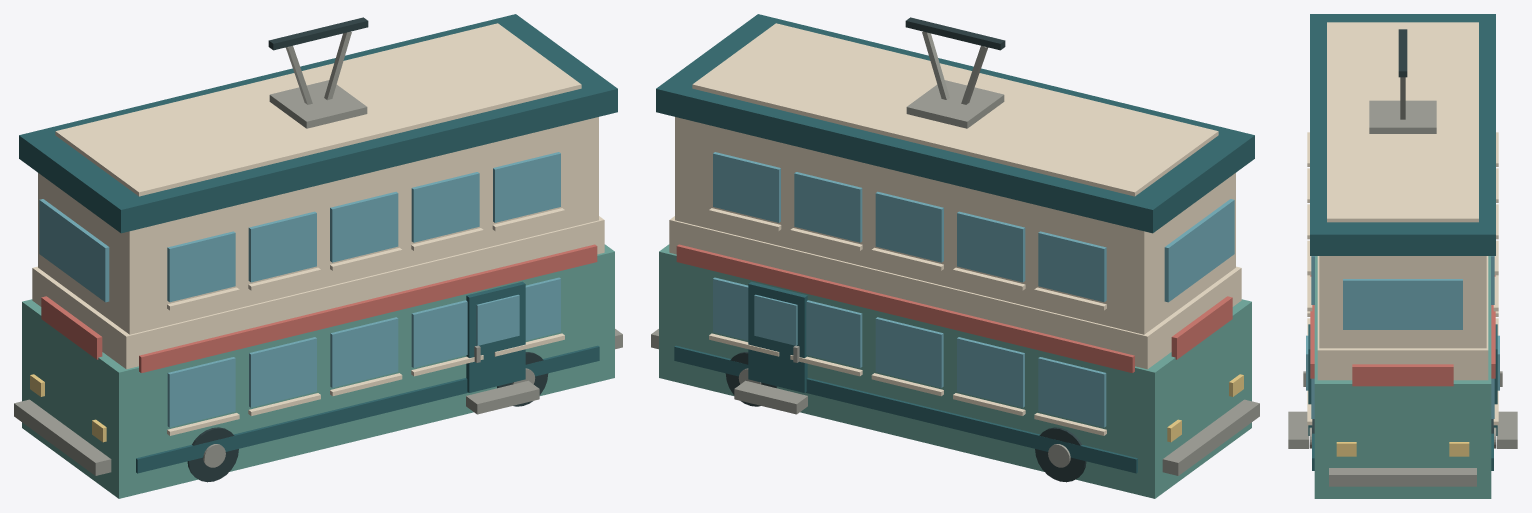
Rendered from hk_tram.glb.
The picture shows the model from 3 angles, left to right: view 1: azimuth 30°, elevation 25°; view 2: azimuth 150°, elevation 25°; view 3: azimuth 270°, elevation 25°; orthographic projection. The views are drawn at different scales.
Parts seen in each view (by area): view 1: rounded_lower_carriage, roof_highlight, upper_carriage, roof_canopy, cream_middle_deck, route_stripe_right, lower_bottom_band_back, front_windscreen_-1, entry_door_-1, upper_window_L_1, upper_window_L_0, upper_window_L_2 (+14 smaller); view 2: rounded_lower_carriage, roof_highlight, upper_carriage, roof_canopy, cream_middle_deck, route_stripe_left, lower_bottom_band, front_windscreen_-1, entry_door_1, upper_window_R_1, upper_window_R_0, upper_window_R_2 (+14 smaller); view 3: roof_highlight, rounded_lower_carriage, roof_canopy, upper_carriage, front_windscreen_1, cream_middle_deck, bumper_1, front_route_marker_1, pantograph_base, entry_step_1, entry_step_-1, pantograph_contact (+6 smaller).
Part boxes in pixels (x1,y1,x2,y2): rounded_lower_carriage: [22, 244, 614, 498]; roof_highlight: [55, 23, 581, 196]; upper_carriage: [38, 117, 598, 334]; roof_canopy: [19, 14, 617, 233]; cream_middle_deck: [32, 216, 604, 369]; route_stripe_right: [139, 244, 597, 372]; lower_bottom_band_back: [136, 345, 599, 473]; front_windscreen_-1: [39, 199, 109, 302]; entry_door_-1: [466, 281, 525, 392]; upper_window_L_1: [248, 211, 316, 282]; upper_window_L_0: [167, 231, 235, 302]; upper_window_L_2: [330, 191, 398, 262]; rounded_lower_carriage: [659, 244, 1251, 498]; roof_highlight: [692, 23, 1218, 196]; upper_carriage: [675, 117, 1235, 334]; roof_canopy: [656, 14, 1254, 233]; cream_middle_deck: [669, 216, 1241, 369]; route_stripe_left: [676, 244, 1134, 372]; lower_bottom_band: [674, 345, 1137, 473]; front_windscreen_-1: [1164, 199, 1234, 302]; entry_door_1: [748, 281, 807, 392]; upper_window_R_1: [957, 211, 1025, 282]; upper_window_R_0: [1038, 231, 1106, 302]; upper_window_R_2: [875, 191, 943, 262]; roof_highlight: [1327, 22, 1478, 222]; rounded_lower_carriage: [1314, 256, 1491, 498]; roof_canopy: [1310, 14, 1495, 255]; upper_carriage: [1319, 256, 1486, 348]; front_windscreen_1: [1343, 279, 1462, 329]; cream_middle_deck: [1317, 256, 1488, 380]; bumper_1: [1329, 468, 1476, 486]; front_route_marker_1: [1352, 364, 1453, 386]; pantograph_base: [1369, 100, 1436, 133]; entry_step_1: [1497, 411, 1517, 448]; entry_step_-1: [1288, 411, 1308, 448]; pantograph_contact: [1398, 29, 1407, 77].
Bounding box in the file's own units: 5.9 × 4.02 × 2.44.
